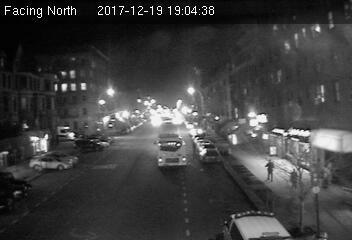bus: (155, 133, 186, 167)
car: (199, 148, 222, 163)
pedestrian: (263, 158, 275, 183)
police: (217, 209, 295, 240)
